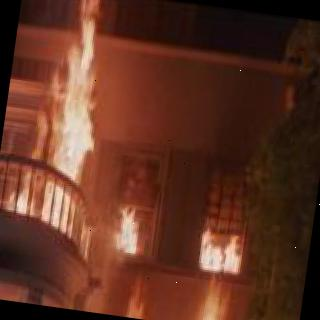fire: (20, 0, 117, 260), (191, 232, 244, 320), (92, 266, 168, 320), (109, 180, 154, 260)
